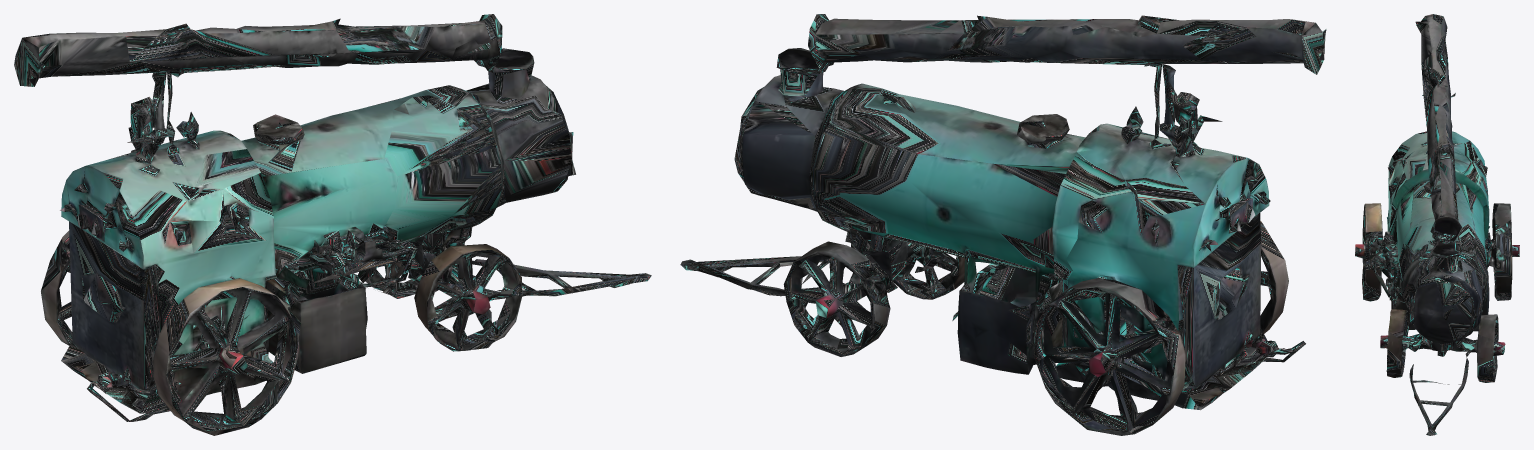
File: donkey_boiler.glb
3 views of the same model, side by side, from view 1: azimuth 30°, elevation 25°; view 2: azimuth 150°, elevation 25°; view 3: azimuth 270°, elevation 25° (orthographic). The views are drawn at different scales.
Parts seen in each view (by area): view 1: Object_2; view 2: Object_2; view 3: Object_2.
Boxes of the visible parts, x1,y1,x2,y2 form: Object_2: (14,14,651,435); Object_2: (680,14,1326,435); Object_2: (1355,14,1519,435).
Size of the model in its own units: 11.67 by 6.95 by 4.32.
1 material, 1 textured.
